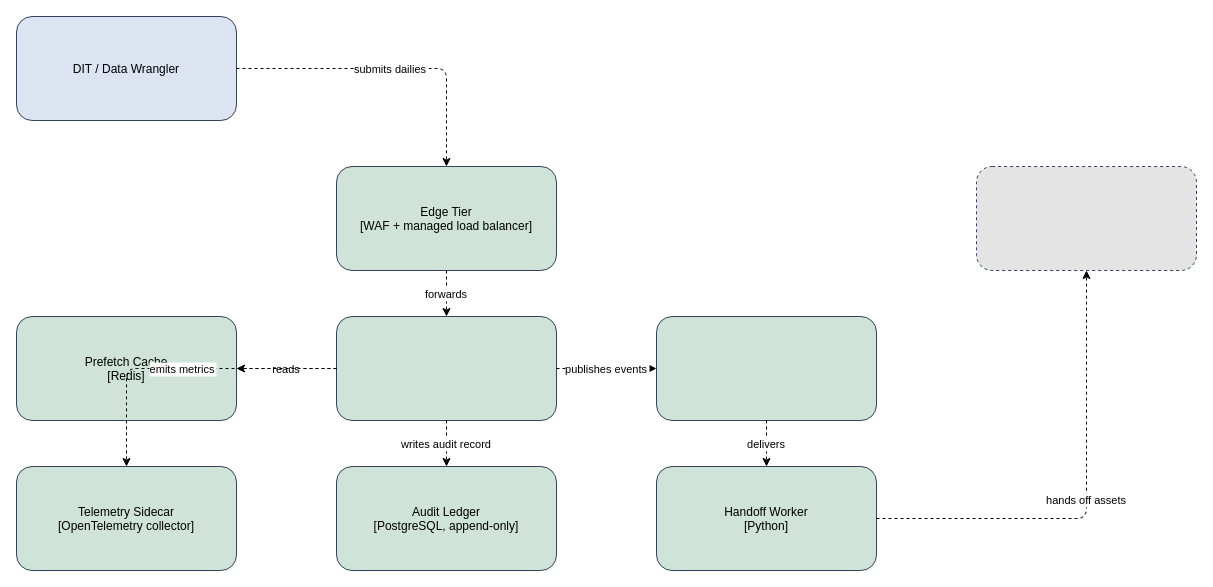
The diagram is 1213 pixels wide and 587 high, and some of its shapes have lost their labels. The shapes that lost their labels are listed below. From the top down, each one's box as (x1, y1, x2, y2) in pixels, then its label:
(976, 166, 1196, 270): Existing MAM
(336, 316, 556, 420): Ingest API [Python 3.11 / FastAPI]
(656, 316, 876, 420): Replay Buffer [Kafka]
